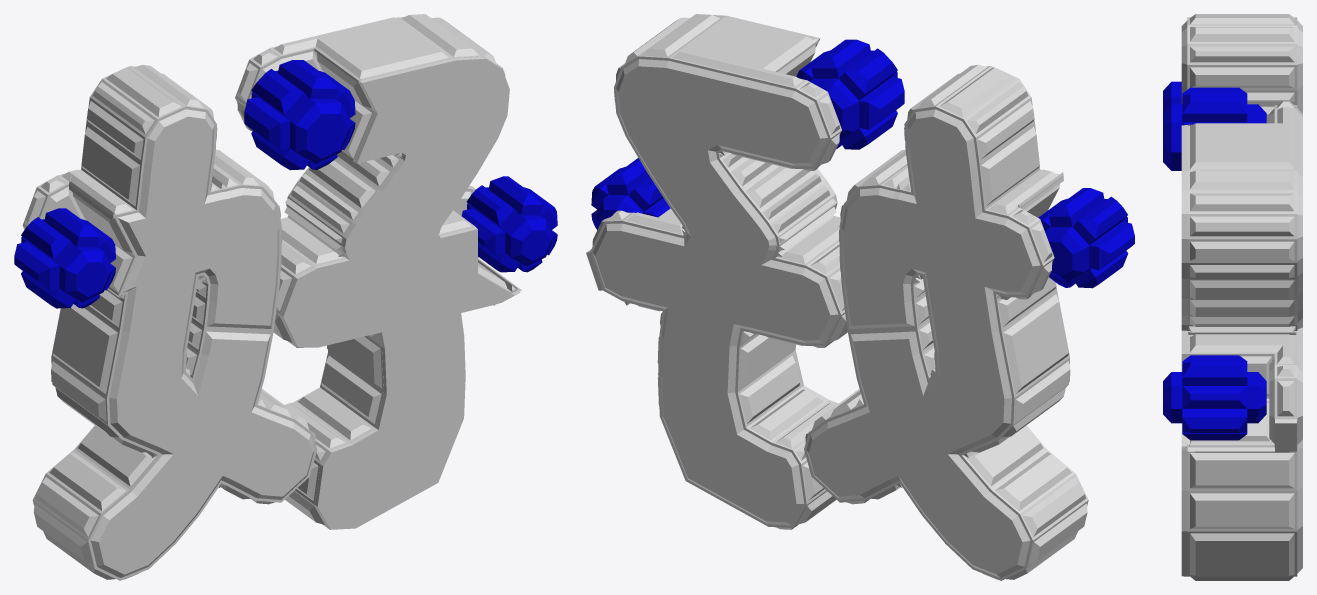
The model's file is Ch_China_好_01.fbx.
3 renders of one model, left to right at view 1: azimuth 30°, elevation 25°; view 2: azimuth 150°, elevation 25°; view 3: azimuth 270°, elevation 25°, orthographic.
Parts seen in each view (by area): view 1: sphere1; view 2: sphere1; view 3: sphere1.
Part boxes in pixels (bbox=[...]): sphere1: bbox=[14, 14, 557, 580]; sphere1: bbox=[586, 14, 1134, 580]; sphere1: bbox=[1163, 14, 1302, 580].
Size of the model in its own units: 1.08 by 0.9285 by 0.2541.
